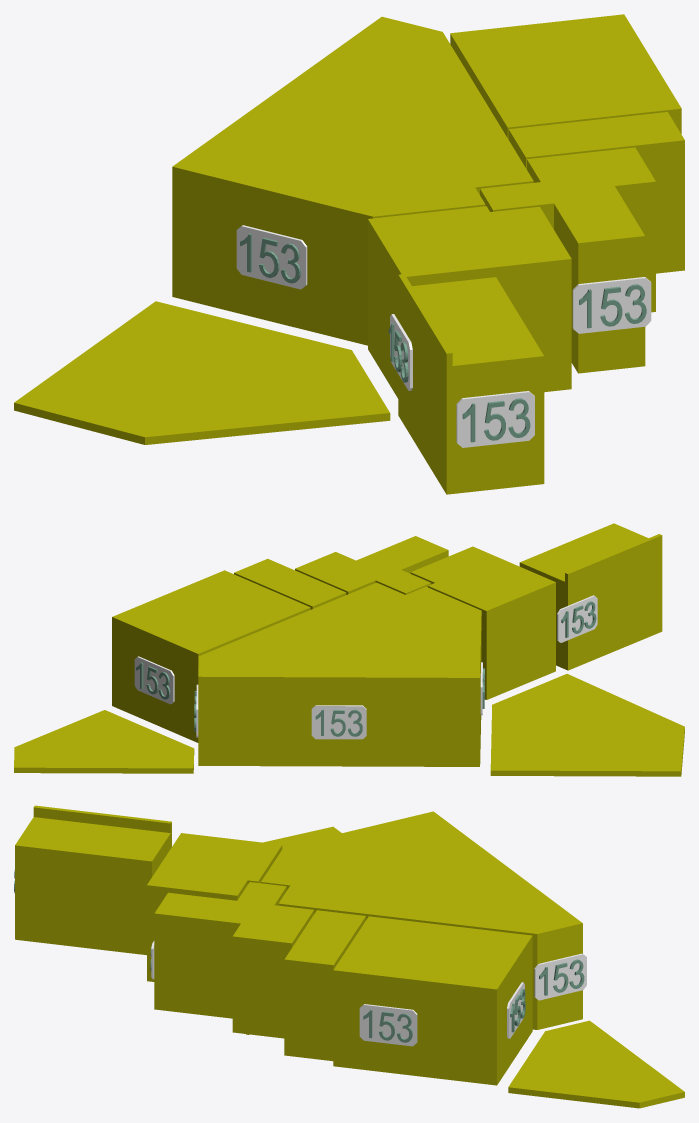
The picture shows the model from 3 angles, top to bottom: view 1: azimuth 30°, elevation 25°; view 2: azimuth 150°, elevation 25°; view 3: azimuth 270°, elevation 25°; orthographic projection. The views are drawn at different scales.
Parts seen in each view (by area): view 1: g_0, g_7, g_5, g_4, g_1, g_3, g_2, g_35, g_23, g_15; view 2: g_0, g_7, g_1, g_5, g_4, g_6, g_3, g_2, g_31, g_27, g_11; view 3: g_1, g_0, g_5, g_3, g_6, g_2, g_4, g_39, g_19, g_7.
Boxes of the visible parts, bbox=[...] form: g_0: bbox=[172, 16, 533, 345]; g_7: bbox=[14, 301, 390, 444]; g_5: bbox=[398, 274, 544, 494]; g_4: bbox=[368, 206, 571, 398]; g_1: bbox=[450, 14, 681, 139]; g_3: bbox=[480, 147, 655, 373]; g_2: bbox=[508, 112, 684, 273]; g_35: bbox=[572, 277, 651, 333]; g_23: bbox=[456, 391, 534, 447]; g_15: bbox=[236, 225, 307, 289]; g_0: bbox=[198, 582, 481, 766]; g_7: bbox=[490, 674, 684, 776]; g_1: bbox=[112, 570, 310, 742]; g_5: bbox=[519, 523, 662, 670]; g_4: bbox=[410, 546, 555, 699]; g_6: bbox=[14, 710, 194, 773]; g_3: bbox=[295, 536, 448, 594]; g_2: bbox=[234, 558, 346, 609]; g_31: bbox=[311, 705, 366, 739]; g_27: bbox=[557, 595, 597, 642]; g_11: bbox=[134, 656, 174, 704]; g_1: bbox=[333, 916, 532, 1085]; g_0: bbox=[261, 811, 582, 1029]; g_5: bbox=[15, 805, 171, 955]; g_3: bbox=[154, 882, 313, 1038]; g_6: bbox=[508, 1020, 684, 1108]; g_2: bbox=[284, 910, 365, 1061]; g_4: bbox=[147, 833, 282, 981]; g_39: bbox=[359, 1004, 417, 1046]; g_19: bbox=[534, 953, 586, 1000]; g_7: bbox=[263, 826, 341, 848].
Size of the model in its own units: 15.38 by 2.85 by 15.8.
